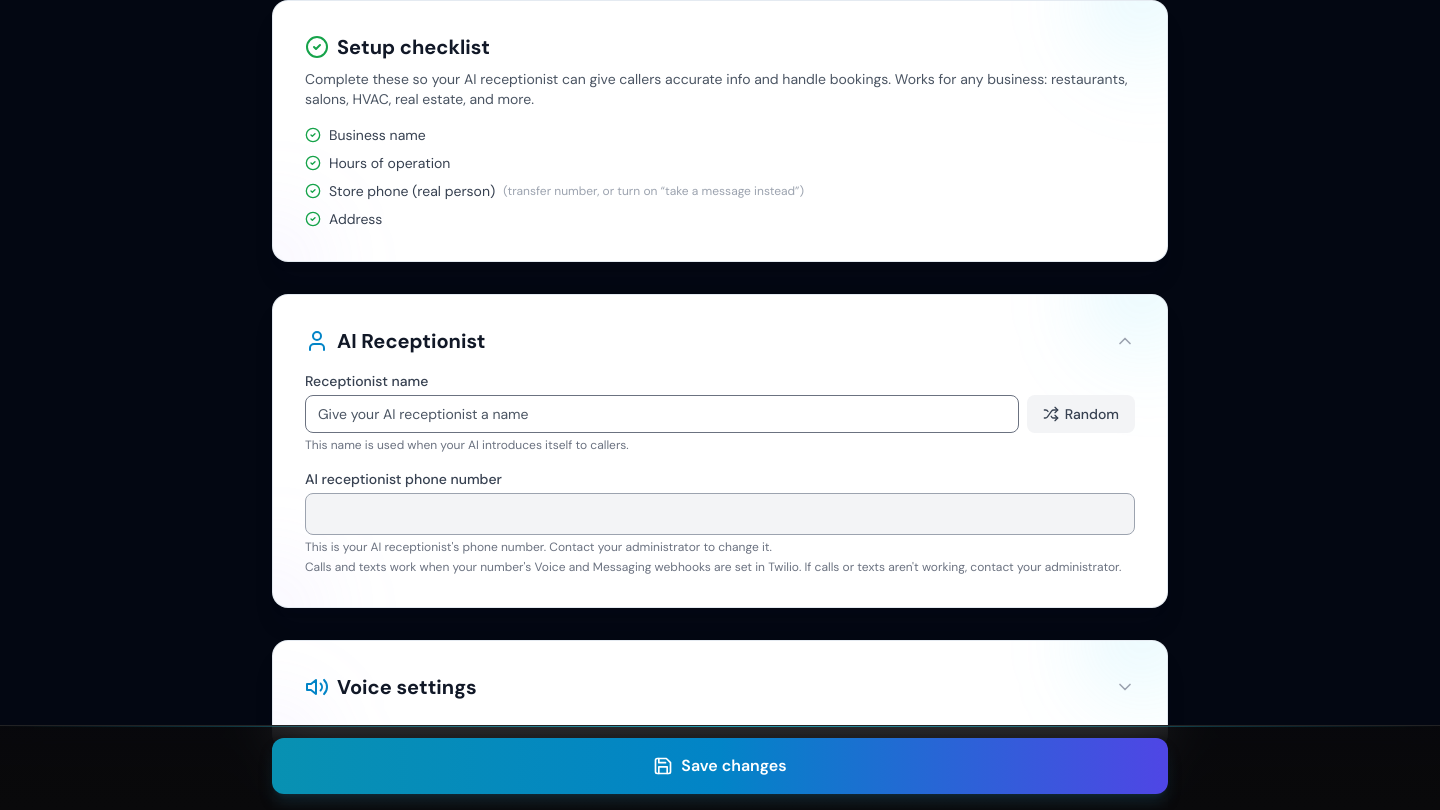
Scenario: Settings save flow › shows an error message when the save fails
Click the button "Save changes".
click(720, 766)  # box x1=272 y1=738 x2=1168 y2=794
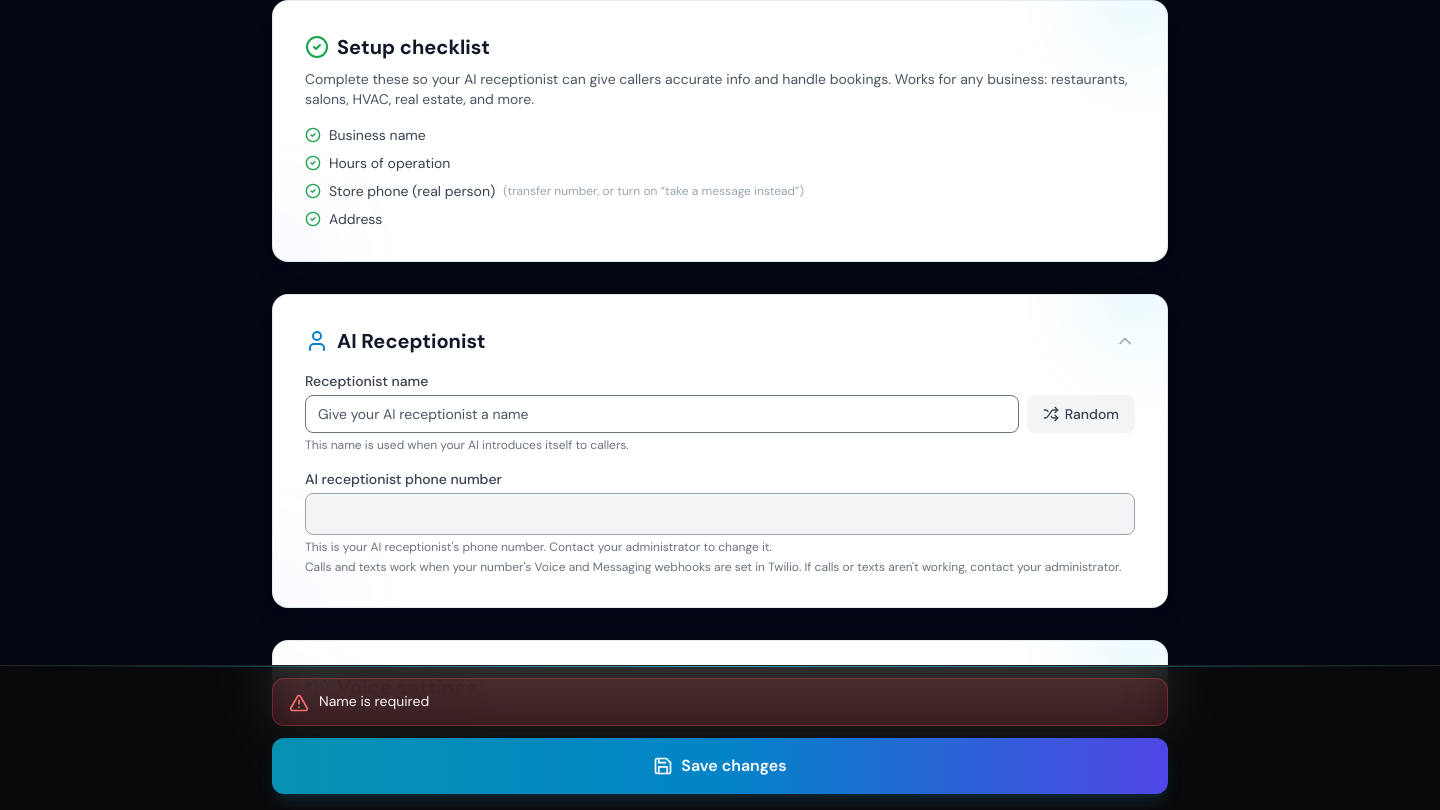
Expected: the text "Name is required" is shown, x1=319 y1=691 x2=429 y2=711
